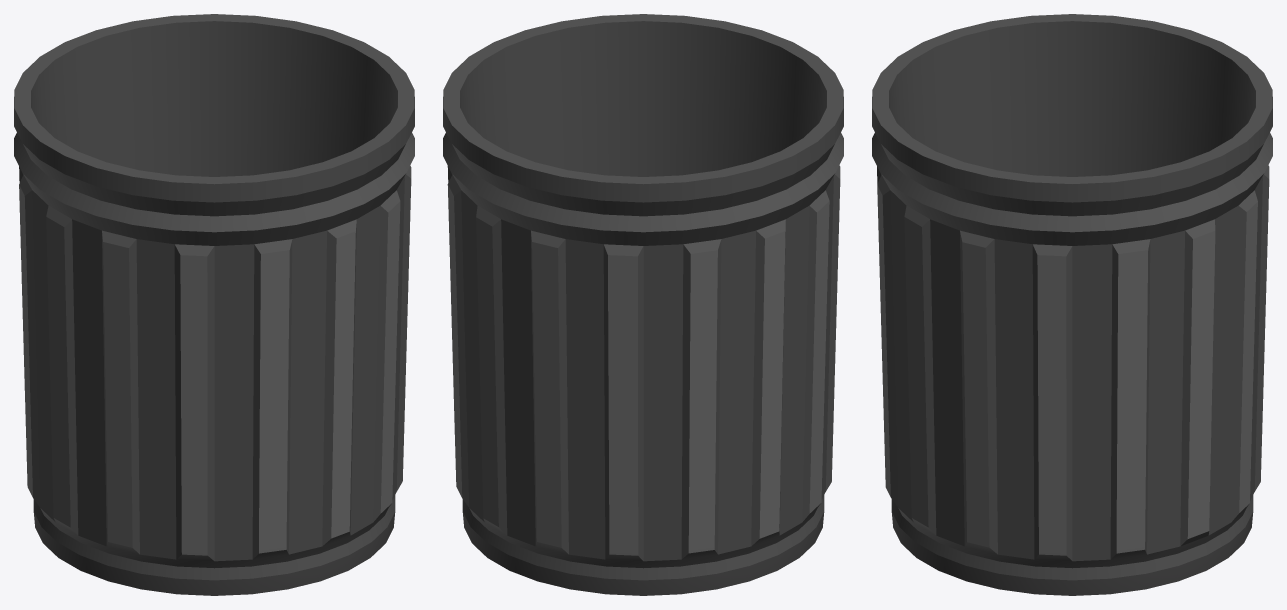
Rendered from TrashCan.fbx.
3 renders of one model, left to right at view 1: azimuth 30°, elevation 25°; view 2: azimuth 150°, elevation 25°; view 3: azimuth 270°, elevation 25°, orthographic.
Visible parts, largest first — view 1: TrashCan; view 2: TrashCan; view 3: TrashCan.
Boxes of the visible parts, x1,y1,x2,y2 form: TrashCan: (14,14,414,595); TrashCan: (443,14,843,595); TrashCan: (872,14,1272,595).
Bounding box in the file's own units: 4.75 × 5.46 × 4.72.
